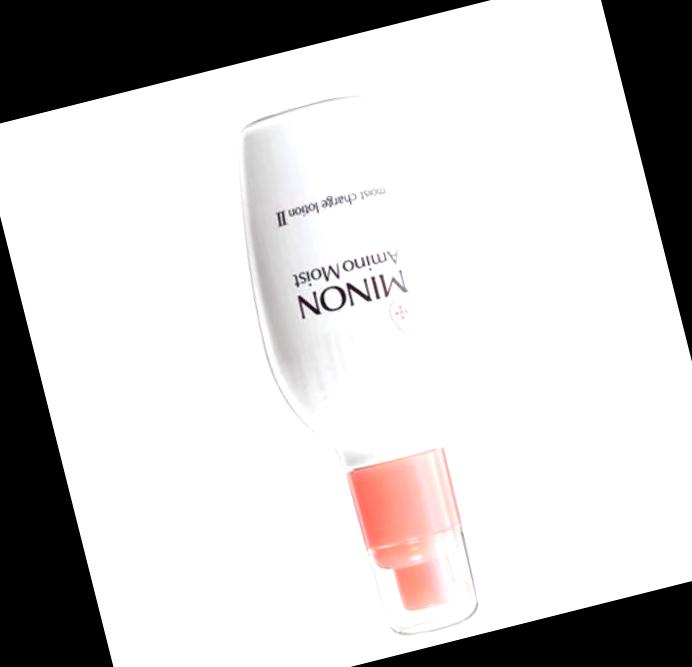cosmetic: (206, 77, 535, 659)
